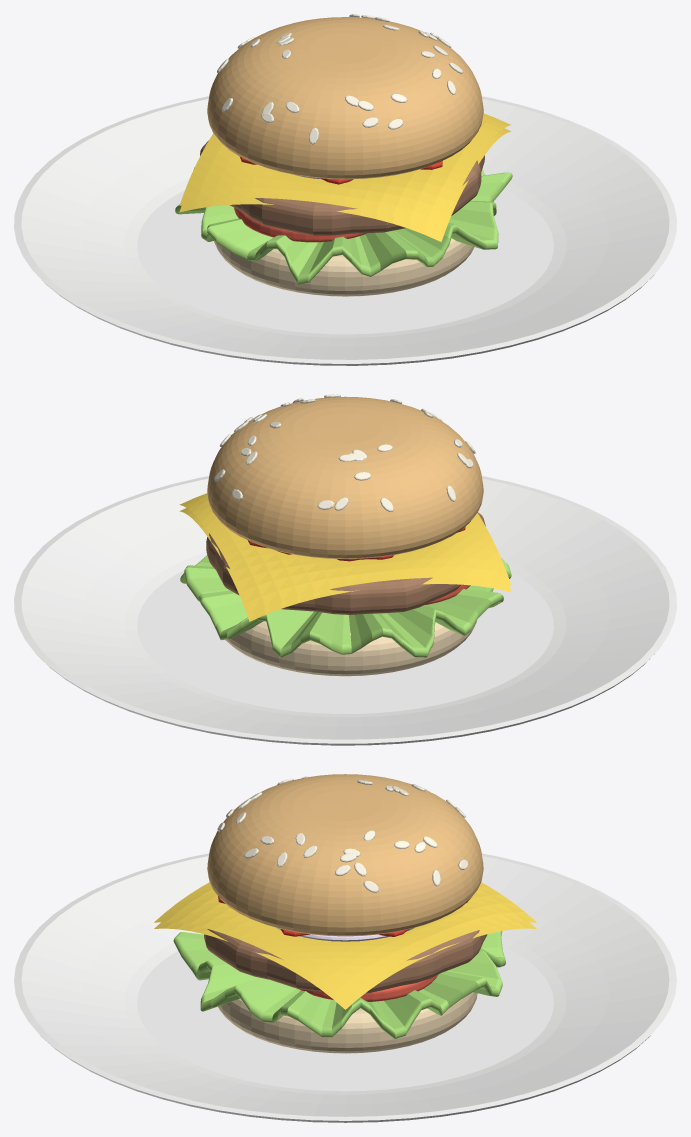
The model's file is classic_cheeseburger.glb.
3 views of the same model, one above another, from view 1: azimuth 30°, elevation 25°; view 2: azimuth 150°, elevation 25°; view 3: azimuth 270°, elevation 25° (orthographic).
Parts seen in each view (by area): view 1: plate, bun_top_0_0, cheese_0_0, lettuce_0_0, bun_bottom_0_0, beef_0_0, bun_top_0_1, tomato_0_0; view 2: plate, bun_top_0_0, cheese_0_0, lettuce_0_0, bun_bottom_0_0, beef_0_0, bun_top_0_1; view 3: plate, bun_top_0_0, cheese_0_0, lettuce_0_0, bun_bottom_0_0, beef_0_0, bun_top_0_1, tomato_0_1.
Part boxes in pixels (left/top/right/bottom): plate: left=14, top=96, right=676, bottom=365; bun_top_0_0: left=207, top=17, right=483, bottom=179; cheese_0_0: left=179, top=113, right=511, bottom=241; lettuce_0_0: left=175, top=167, right=512, bottom=284; bun_bottom_0_0: left=214, top=238, right=474, bottom=296; beef_0_0: left=200, top=140, right=484, bottom=235; bun_top_0_1: left=217, top=14, right=463, bottom=144; tomato_0_0: left=234, top=207, right=366, bottom=242; plate: left=14, top=476, right=676, bottom=745; bun_top_0_0: left=207, top=396, right=483, bottom=558; cheese_0_0: left=179, top=493, right=511, bottom=621; lettuce_0_0: left=180, top=555, right=511, bottom=657; bun_bottom_0_0: left=225, top=620, right=476, bottom=676; beef_0_0: left=206, top=512, right=485, bottom=614; bun_top_0_1: left=214, top=394, right=475, bottom=511; plate: left=14, top=853, right=676, bottom=1122; bun_top_0_0: left=207, top=774, right=483, bottom=936; cheese_0_0: left=154, top=882, right=536, bottom=1009; lettuce_0_0: left=173, top=931, right=505, bottom=1038; bun_bottom_0_0: left=218, top=992, right=477, bottom=1053; beef_0_0: left=204, top=929, right=487, bottom=993; bun_top_0_1: left=217, top=776, right=468, bottom=892; tomato_0_1: left=298, top=975, right=437, bottom=1001.
Bounding box in the file's own units: 0.264 × 0.0937 × 0.264.
